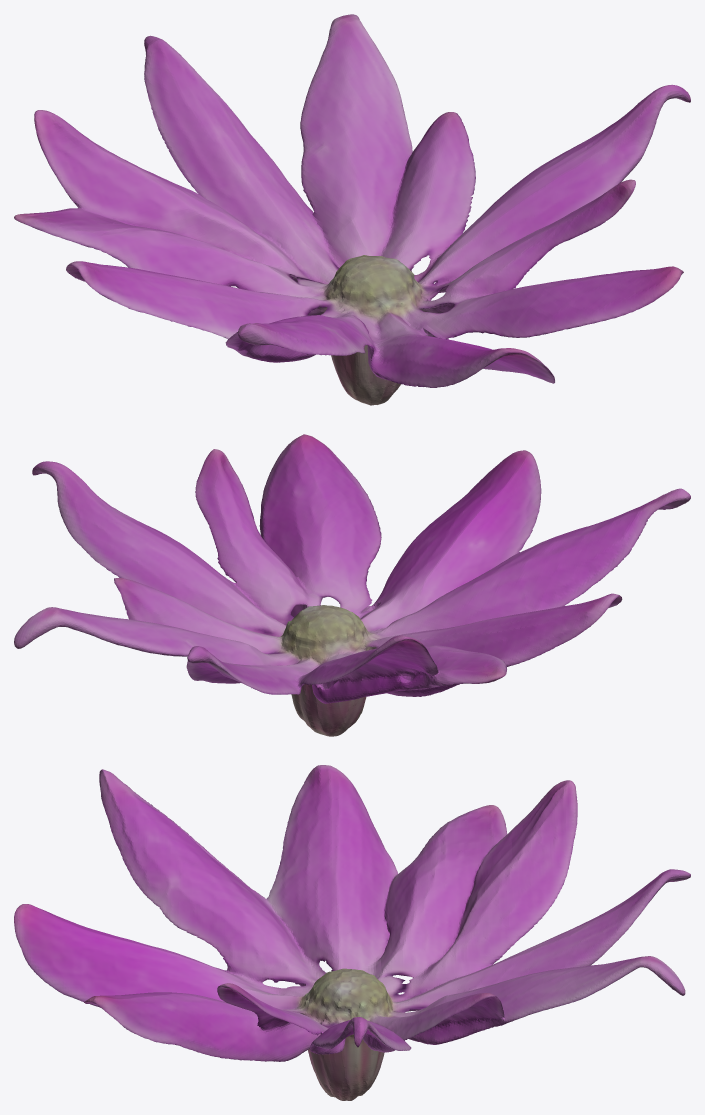
3 renders of one model, top to bottom at view 1: azimuth 30°, elevation 25°; view 2: azimuth 150°, elevation 25°; view 3: azimuth 270°, elevation 25°, orthographic. The views are drawn at different scales.
Visible parts, largest first — view 1: world; view 2: world; view 3: world.
Boxes of the visible parts, x1,y1,x2,y2 form: world: (14, 14, 690, 405); world: (14, 434, 690, 736); world: (14, 765, 690, 1100).
Size of the model in its own units: 0.9672 by 0.3648 by 0.9913.
